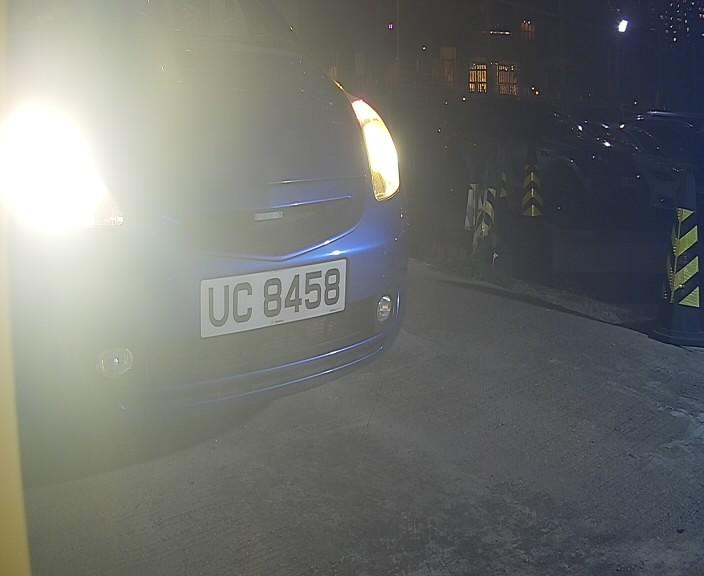License Plate: (192, 250, 353, 340)
